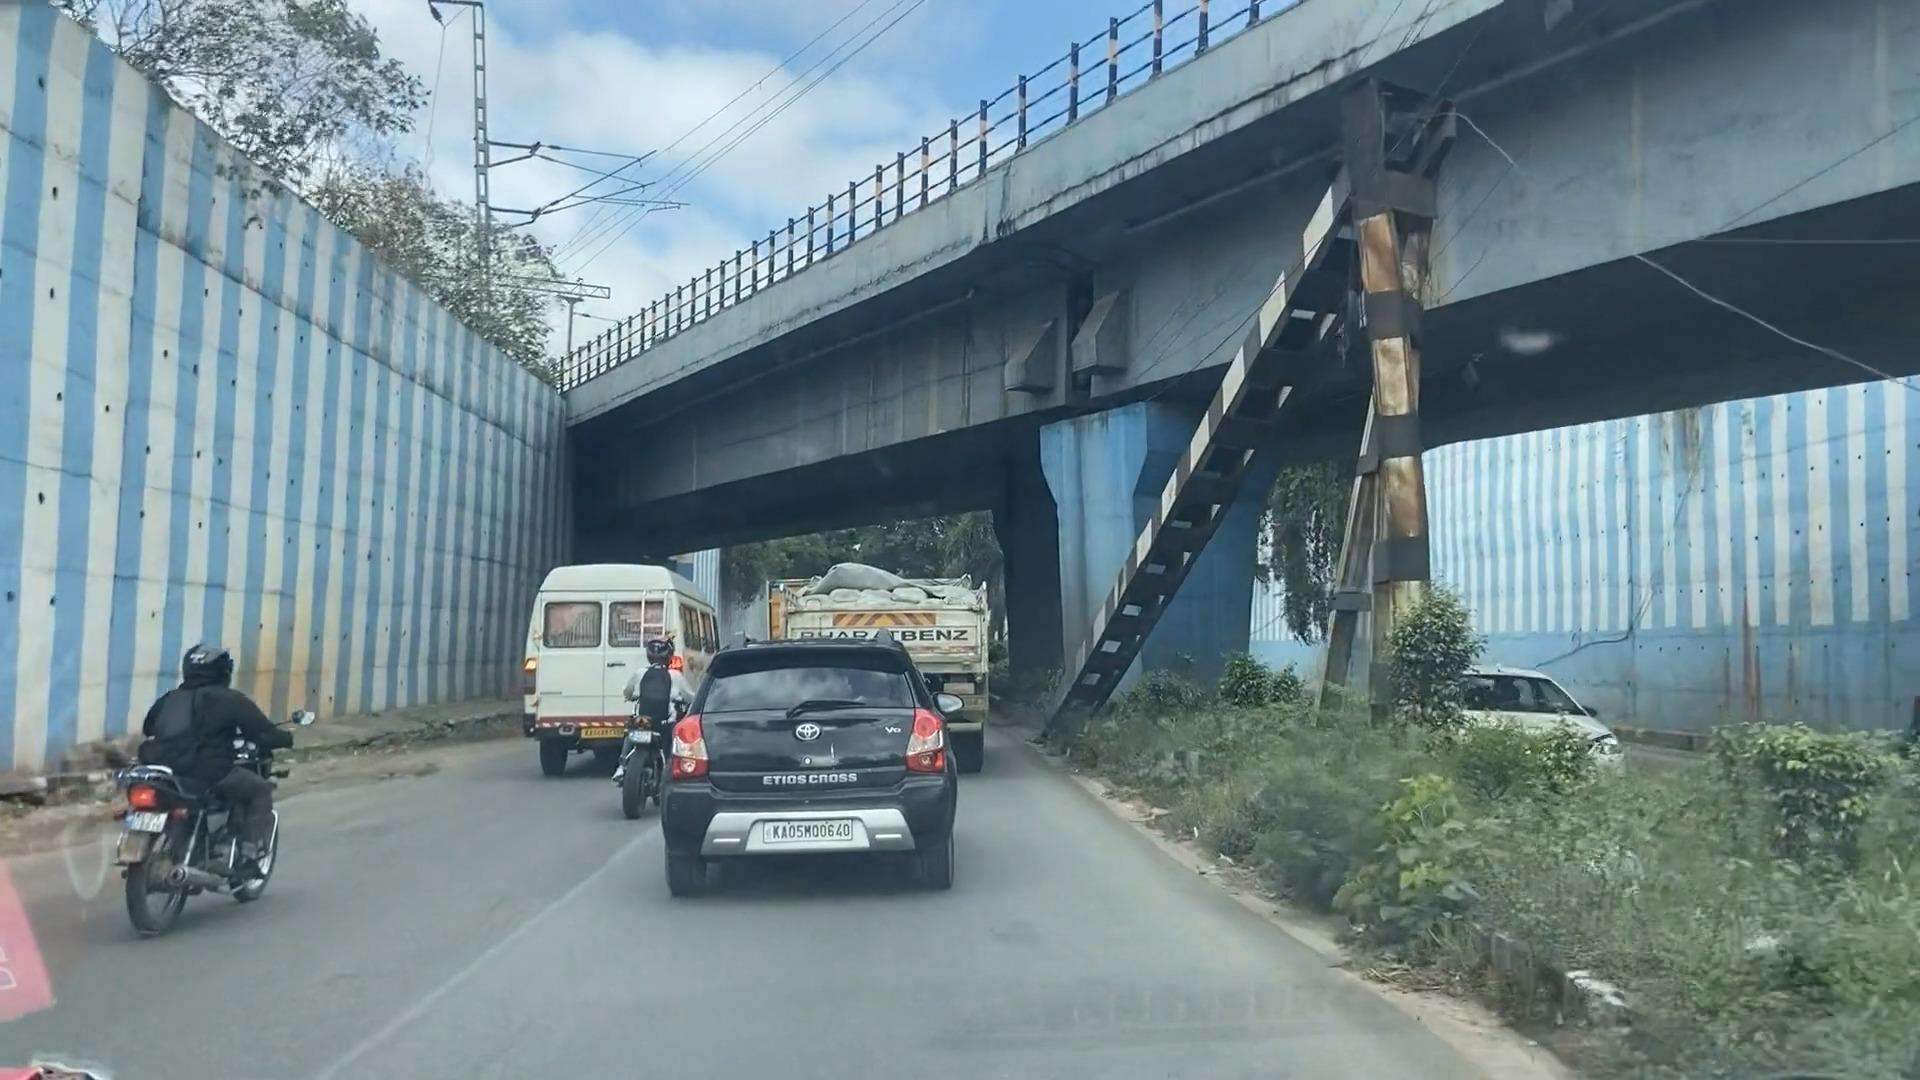HMV: (545, 560, 716, 760)
LMV: (662, 626, 972, 897), (100, 640, 324, 949), (612, 626, 690, 825)
